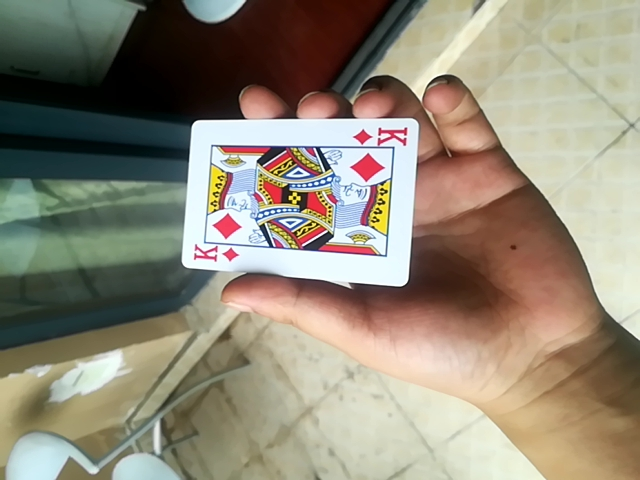fk k: (177, 110, 415, 281)
